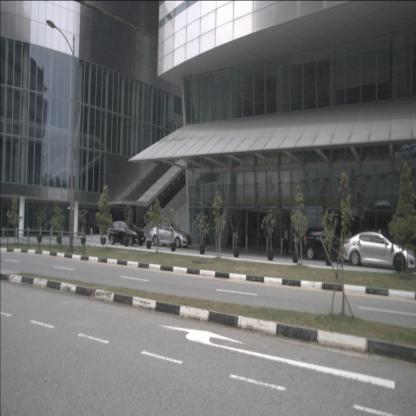human-pedestrian-adult: (282, 226, 290, 256), (226, 221, 233, 250)
vehicle-car: (341, 232, 416, 272), (302, 226, 352, 261), (149, 223, 192, 249), (108, 220, 146, 246), (198, 226, 226, 245)
